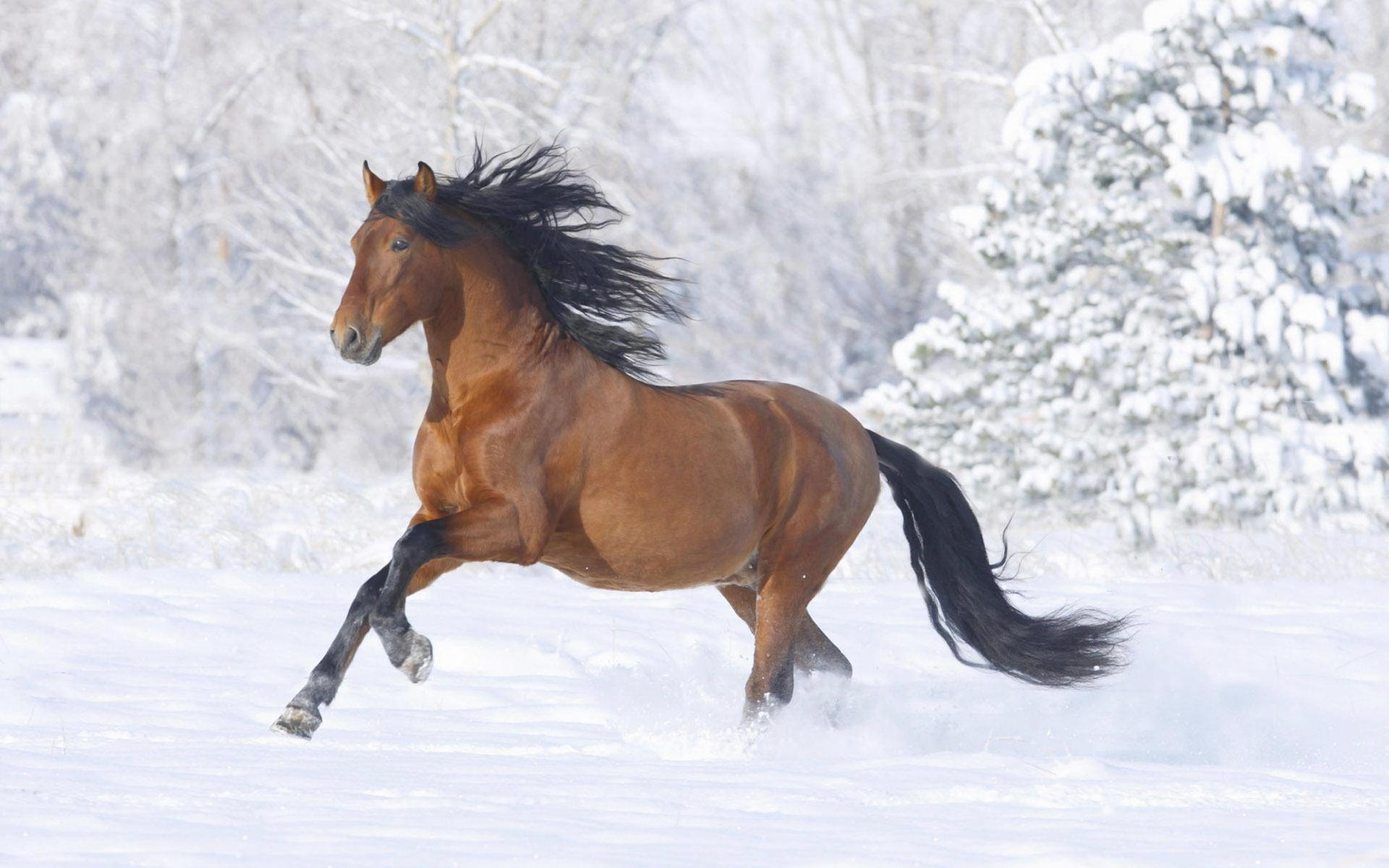horse: (264, 124, 1142, 750)
